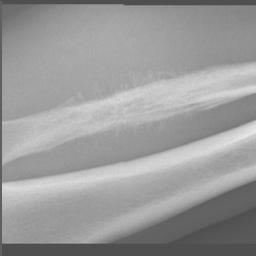cancer: (35, 72, 220, 149)
